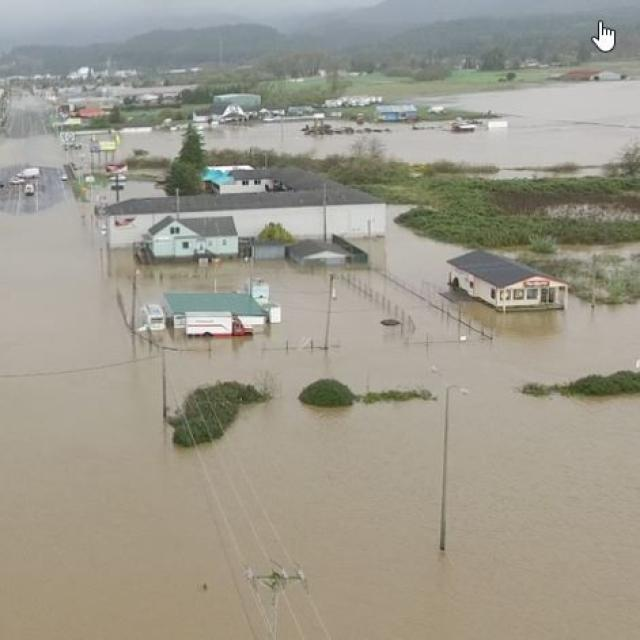flooded_areas: (4, 119, 637, 599)
